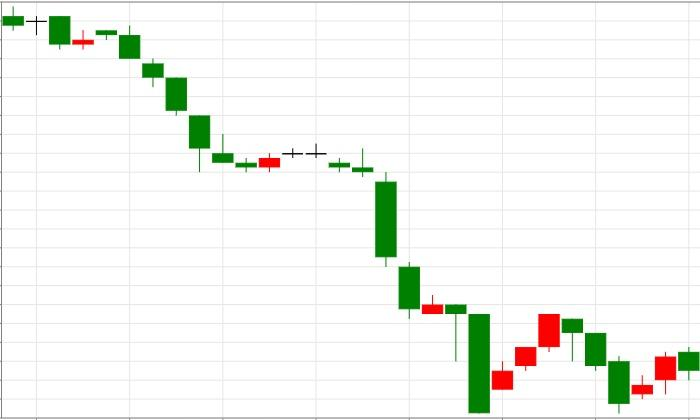three_black_crows_fall: (468, 313, 631, 415)
three_white_soldiers_rise: (306, 143, 561, 414)
